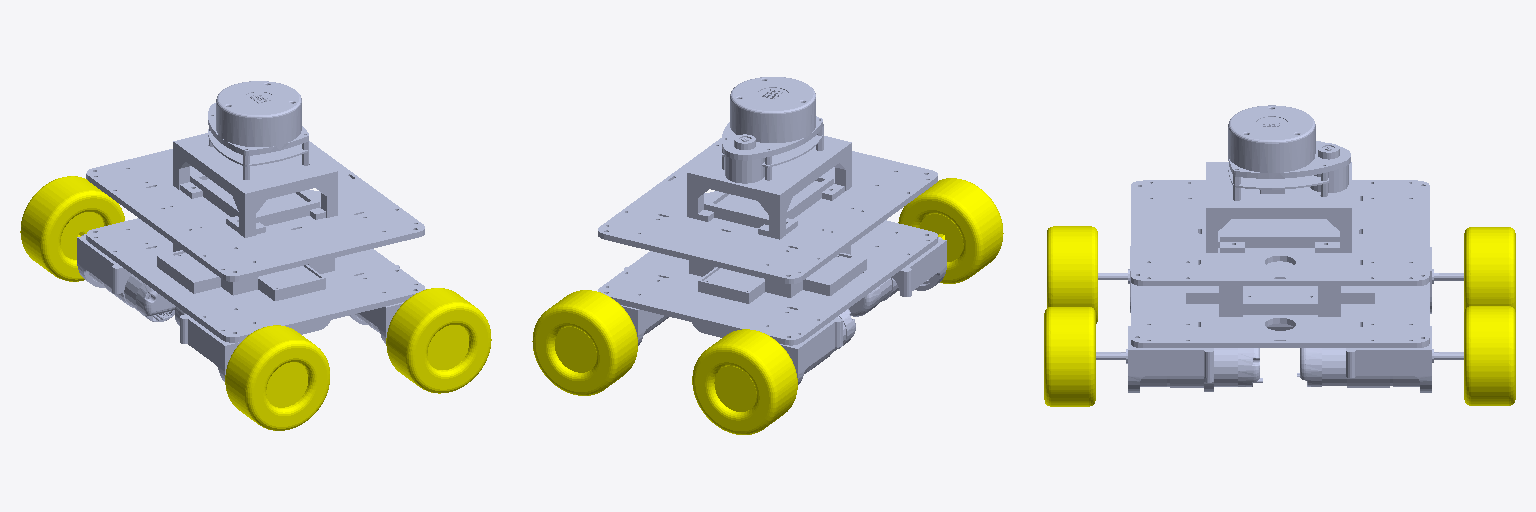
robot.urdf — mecanum:
<?xml version="1.0" encoding="utf-8"?>
<!-- This URDF was automatically created by SolidWorks to URDF Exporter! Originally created by [author] ([email redacted]) 
     Commit Version: 1.6.0-4-g7f85cfe  Build Version: 1.6.7995.38578
     For more information, please see http://wiki.ros.org/sw_urdf_exporter -->
<robot
  name="mecanum">
  <link
    name="base_link">
    <inertial>
      <origin
        xyz="-0.0857489441407666 0.120087688066747 0.0626062346225724"
        rpy="0 0 0" />
      <mass
        value="2.85737754623623" />
      <inertia
        ixx="0.00434208299750416"
        ixy="-7.26803903582791E-07"
        ixz="3.47982147594385E-06"
        iyy="0.00236576255288547"
        iyz="0.000157655614701444"
        izz="0.00606172623265242" />
    </inertial>
    <visual>
      <origin
        xyz="0 0 0"
        rpy="0 0 0" />
      <geometry>
        <mesh
          filename="package://mecanum/meshes/base_link.STL" />
      </geometry>
      <material
        name="">
        <color
          rgba="0.792156862745098 0.819607843137255 0.933333333333333 1" />
      </material>
    </visual>
    <collision>
      <origin
        xyz="0 0 0"
        rpy="0 0 0" />
      <geometry>
        <mesh
          filename="package://mecanum/meshes/base_link.STL" />
      </geometry>
    </collision>
  </link>
  <link
    name="Left_Forward">
    <inertial>
      <origin
        xyz="0 0.014403 0"
        rpy="0 0 0" />
      <mass
        value="0.18499" />
      <inertia
        ixx="0.00010038"
        ixy="-1.3994E-20"
        ixz="-4.1158E-21"
        iyy="0.00015649"
        iyz="-6.2685E-21"
        izz="0.00010038" />
    </inertial>
    <visual>
      <origin
        xyz="0 0 0"
        rpy="0 0 0" />
      <geometry>
        <mesh
          filename="package://mecanum/meshes/Left_Forward.STL" />
      </geometry>
      <material
        name="">
        <color
          rgba="1 1 0 1" />
      </material>
    </visual>
    <collision>
      <origin
        xyz="0 0 0"
        rpy="0 0 0" />
      <geometry>
        <mesh
          filename="package://mecanum/meshes/Left_Forward.STL" />
      </geometry>
    </collision>
  </link>
  <joint
    name="leftforwardjoint"
    type="continuous">
    <origin
      xyz="-0.16056 -0.061135 -0.020707"
      rpy="0 0 0" />
    <parent
      link="base_link" />
    <child
      link="Left_Forward" />
    <axis
      xyz="0 -1 0" />
    <limit
      effort="10"
      velocity="10" />
    <dynamics
      damping="0.1"
      friction="0.1" />
  </joint>
  <link
    name="left_backward">
    <inertial>
      <origin
        xyz="0 0.014403 0"
        rpy="0 0 0" />
      <mass
        value="0.18499" />
      <inertia
        ixx="0.00010038"
        ixy="-1.1482E-20"
        ixz="8.3384E-21"
        iyy="0.00015649"
        iyz="7.4768E-21"
        izz="0.00010038" />
    </inertial>
    <visual>
      <origin
        xyz="0 0 0"
        rpy="0 0 0" />
      <geometry>
        <mesh
          filename="package://mecanum/meshes/left_backward.STL" />
      </geometry>
      <material
        name="">
        <color
          rgba="1 1 0 1" />
      </material>
    </visual>
    <collision>
      <origin
        xyz="0 0 0"
        rpy="0 0 0" />
      <geometry>
        <mesh
          filename="package://mecanum/meshes/left_backward.STL" />
      </geometry>
    </collision>
  </link>
  <joint
    name="leftbackwardsjoint"
    type="continuous">
    <origin
      xyz="-0.0095629 -0.062959 -0.021396"
      rpy="0 0 0" />
    <parent
      link="base_link" />
    <child
      link="left_backward" />
    <axis
      xyz="0 -1 0" />
    <limit
      effort="10"
      velocity="10" />
    <dynamics
      damping="0.1"
      friction="0.1" />
  </joint>
  <link
    name="Right_foward">
    <inertial>
      <origin
        xyz="2.7756E-17 -0.014403 0"
        rpy="0 0 0" />
      <mass
        value="0.18499" />
      <inertia
        ixx="0.00010038"
        ixy="-2.195E-21"
        ixz="-8.1573E-22"
        iyy="0.00015649"
        iyz="-2.6959E-21"
        izz="0.00010038" />
    </inertial>
    <visual>
      <origin
        xyz="0 0 0"
        rpy="0 0 0" />
      <geometry>
        <mesh
          filename="package://mecanum/meshes/Right_foward.STL" />
      </geometry>
      <material
        name="">
        <color
          rgba="1 1 0 1" />
      </material>
    </visual>
    <collision>
      <origin
        xyz="0 0 0"
        rpy="0 0 0" />
      <geometry>
        <mesh
          filename="package://mecanum/meshes/Right_foward.STL" />
      </geometry>
    </collision>
  </link>
  <joint
    name="rightforwardjoint"
    type="continuous">
    <origin
      xyz="-0.16048 0.30265 -0.021346"
      rpy="0 0 0" />
    <parent
      link="base_link" />
    <child
      link="Right_foward" />
    <axis
      xyz="0 1 0" />
    <limit
      effort="10"
      velocity="10" />
    <dynamics
      damping="0.1"
      friction="0.1" />
  </joint>
  <link
    name="Right_backwards">
    <inertial>
      <origin
        xyz="0 -0.014403 -6.9389E-18"
        rpy="0 0 0" />
      <mass
        value="0.18499" />
      <inertia
        ixx="0.00010038"
        ixy="-1.3174E-20"
        ixz="3.4462E-21"
        iyy="0.00015649"
        iyz="5.8186E-21"
        izz="0.00010038" />
    </inertial>
    <visual>
      <origin
        xyz="0 0 0"
        rpy="0 0 0" />
      <geometry>
        <mesh
          filename="package://mecanum/meshes/Right_backwards.STL" />
      </geometry>
      <material
        name="">
        <color
          rgba="1 1 0 1" />
      </material>
    </visual>
    <collision>
      <origin
        xyz="0 0 0"
        rpy="0 0 0" />
      <geometry>
        <mesh
          filename="package://mecanum/meshes/Right_backwards.STL" />
      </geometry>
    </collision>
  </link>
  <joint
    name="rightbackwardsjoint"
    type="continuous">
    <origin
      xyz="-0.010241 0.30265 -0.021154"
      rpy="0 0 0" />
    <parent
      link="base_link" />
    <child
      link="Right_backwards" />
    <axis
      xyz="0 1 0" />
    <limit
      effort="10"
      velocity="10" />
    <dynamics
      damping="0.1"
      friction="0.1" />
  </joint>
</robot>

--- What the picture shows (computed from the rendered views, not written in the file) ---
Views: 3 orthographic renders of the robot side by side, from view 1: azimuth 30°, elevation 25°; view 2: azimuth 150°, elevation 25°; view 3: azimuth 270°, elevation 25°.
Robot: mecanum — 5 links, 4 joints (4 continuous); root link base_link; default pose: every joint at zero.
Visible links, largest first — view 1: base_link, left_backward, Left_Forward, Right_foward; view 2: base_link, Right_foward, Right_backwards, Left_Forward; view 3: base_link, left_backward, Right_backwards, Left_Forward, Right_foward.
Boxes of the visible links, x1,y1,x2,y2 form: base_link: [77, 81, 425, 381]; left_backward: [386, 288, 491, 393]; Left_Forward: [225, 325, 329, 430]; Right_foward: [20, 176, 124, 281]; base_link: [598, 77, 946, 384]; Right_foward: [692, 329, 797, 434]; Right_backwards: [532, 290, 637, 395]; Left_Forward: [898, 178, 1003, 283]; base_link: [1096, 105, 1463, 392]; left_backward: [1044, 307, 1095, 406]; Right_backwards: [1464, 306, 1515, 405]; Left_Forward: [1047, 226, 1097, 323]; Right_foward: [1464, 227, 1515, 311].
Size in the robot's own frame: 0.231 by 0.3776 by 0.2111 metres.
Meshes: 5 distinct files referenced, 5 mesh visuals loaded (5 binary STL).